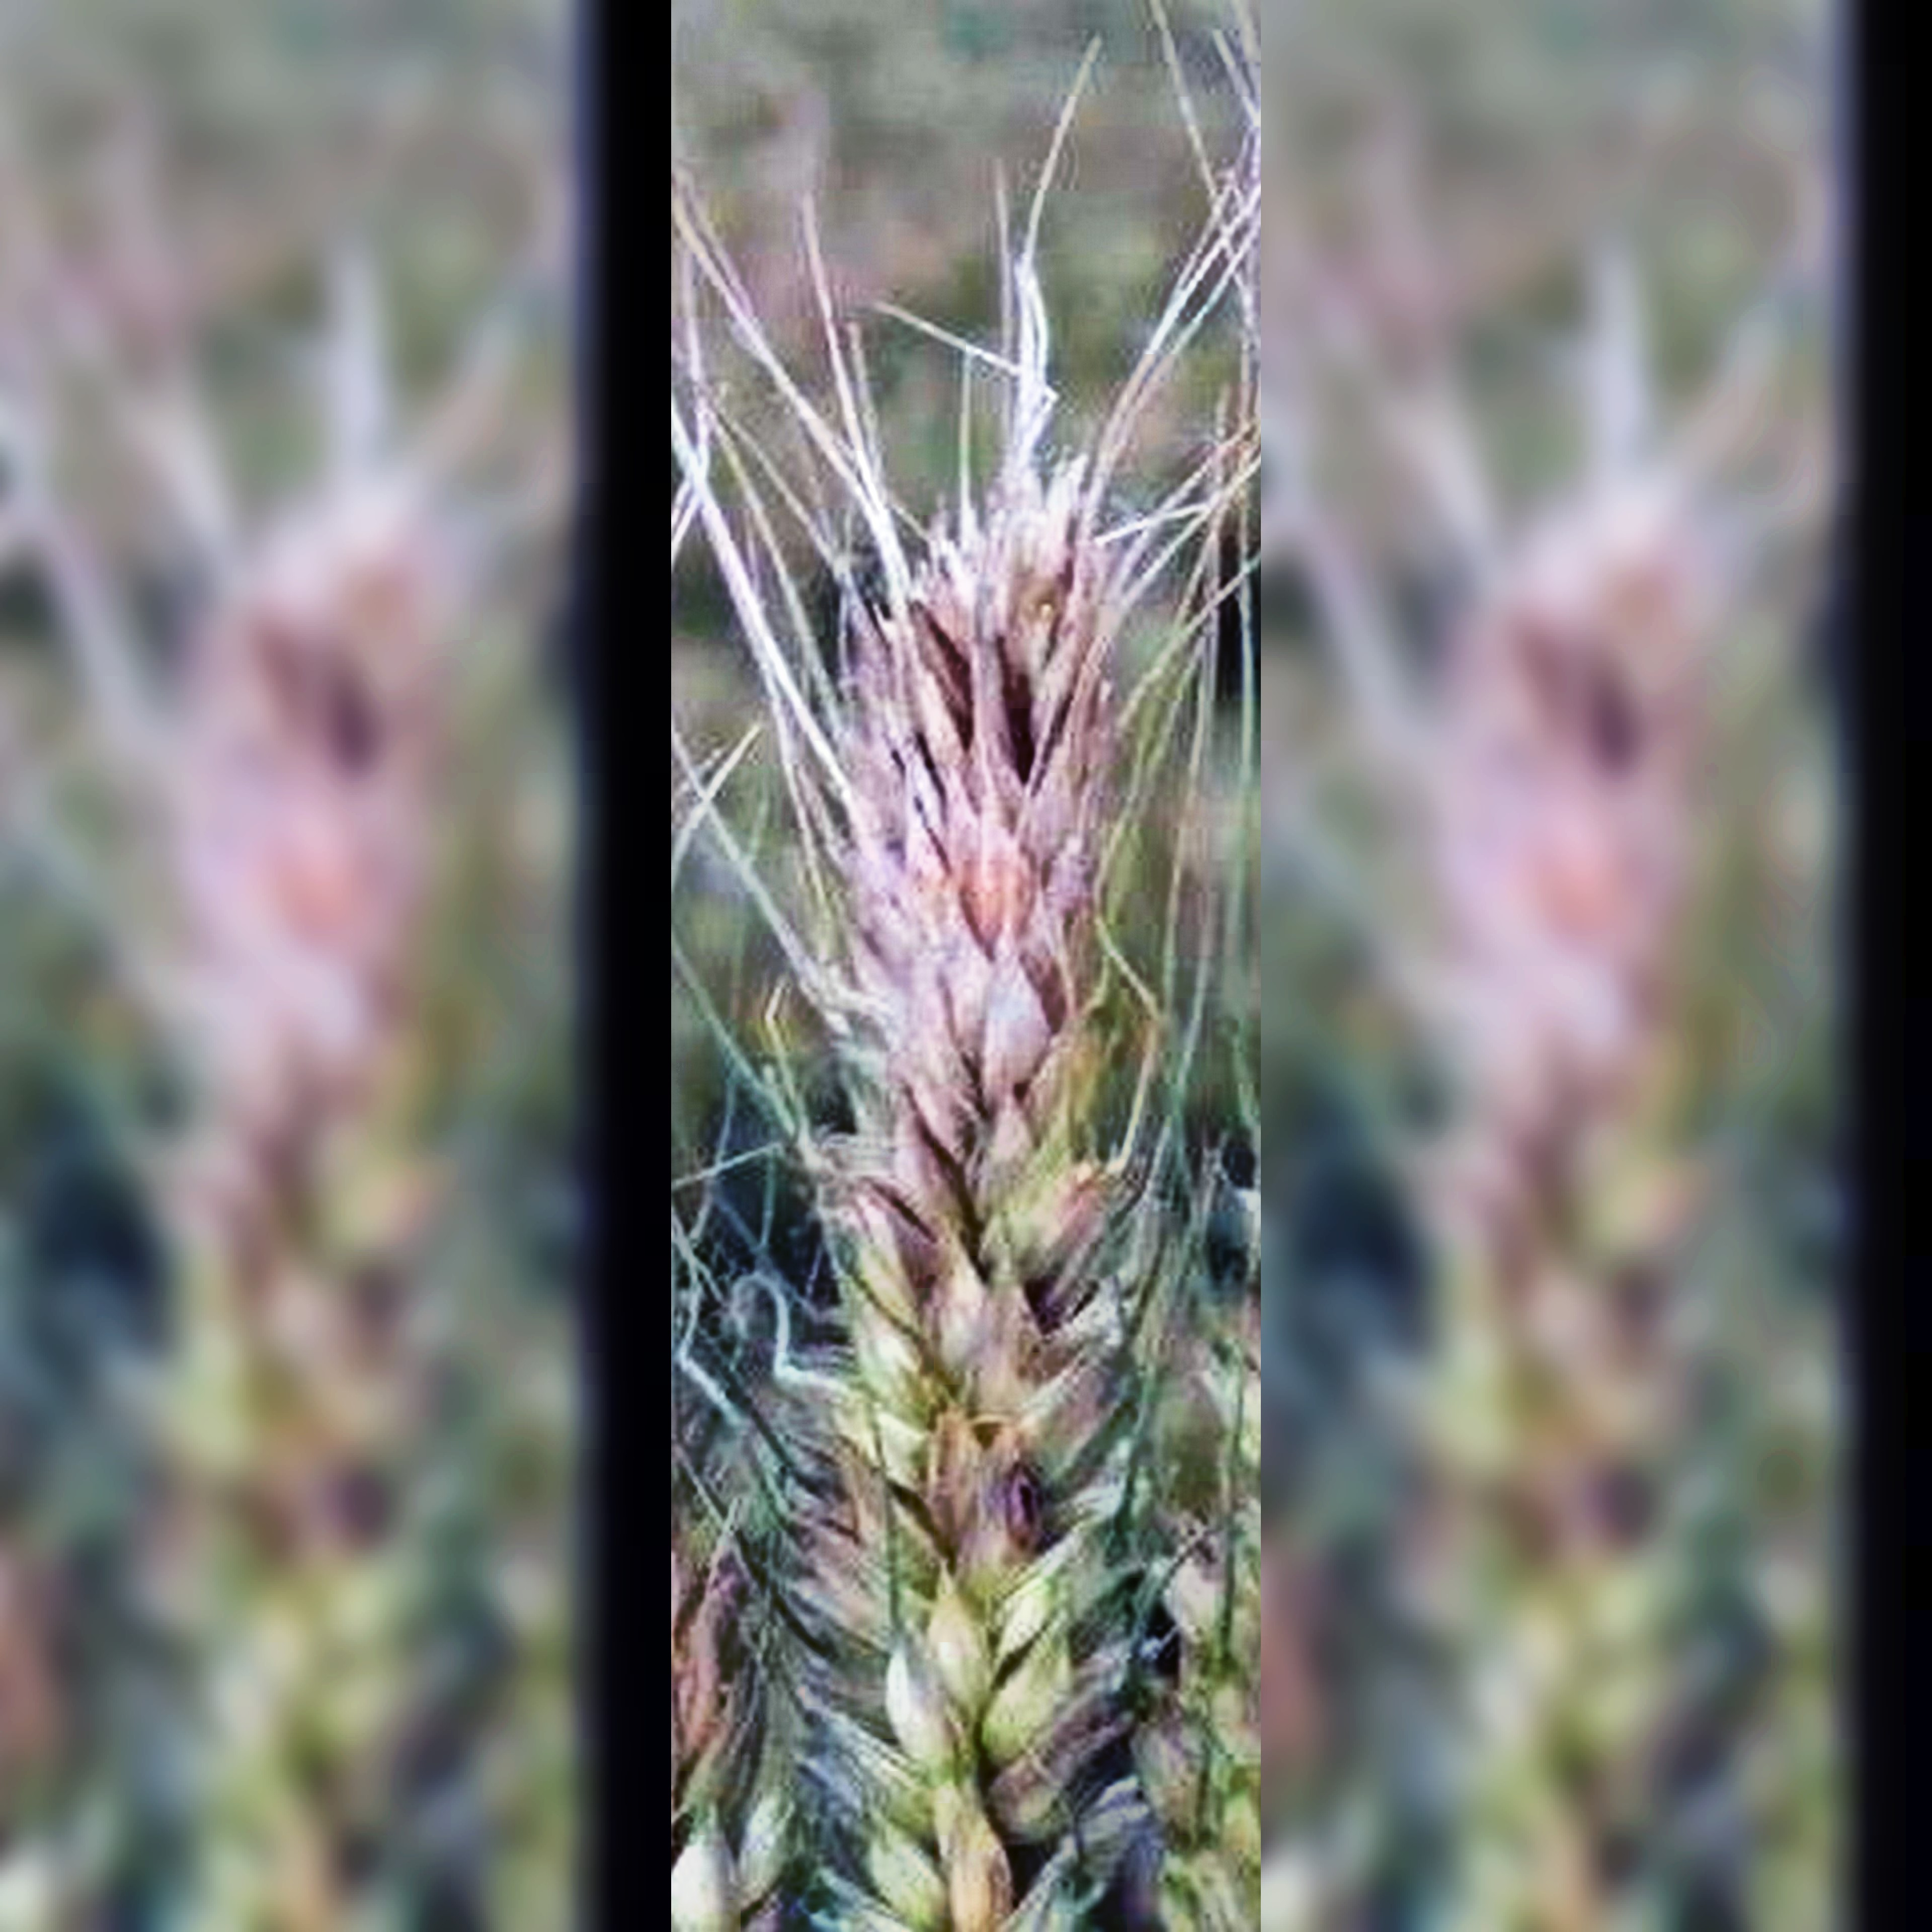Wheat scab: (741, 448, 1189, 1932)
